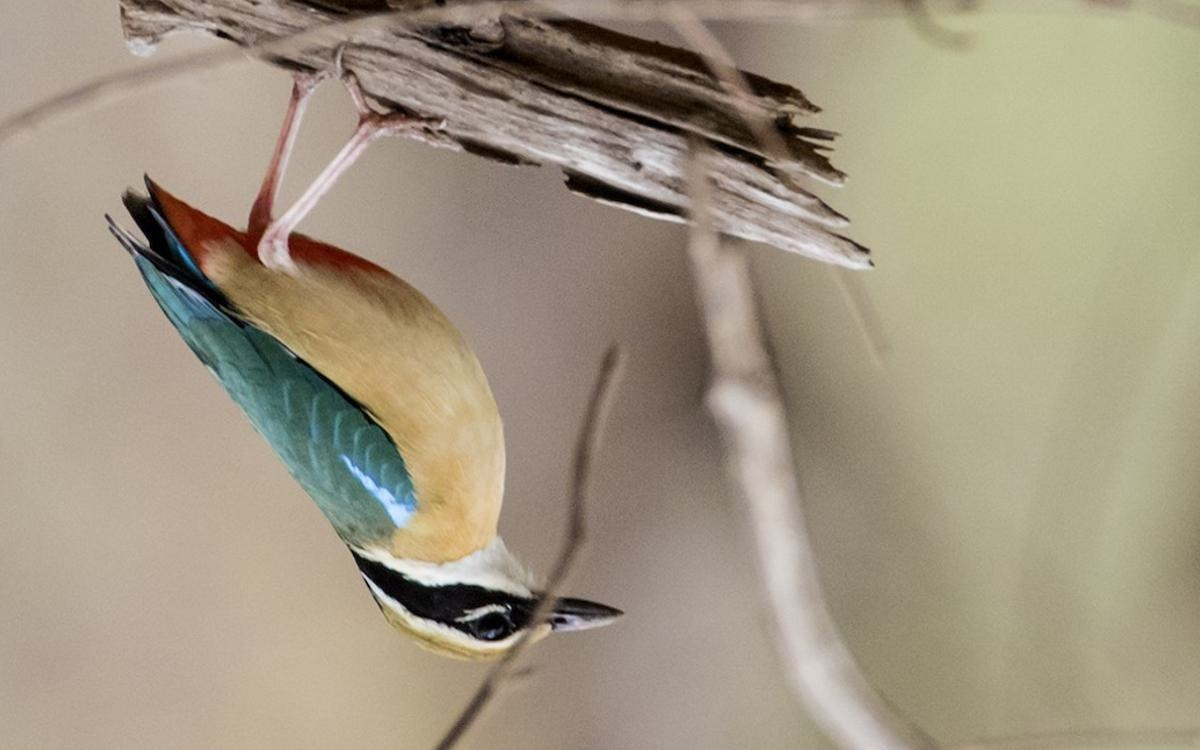pitta: (55, 90, 626, 686)
